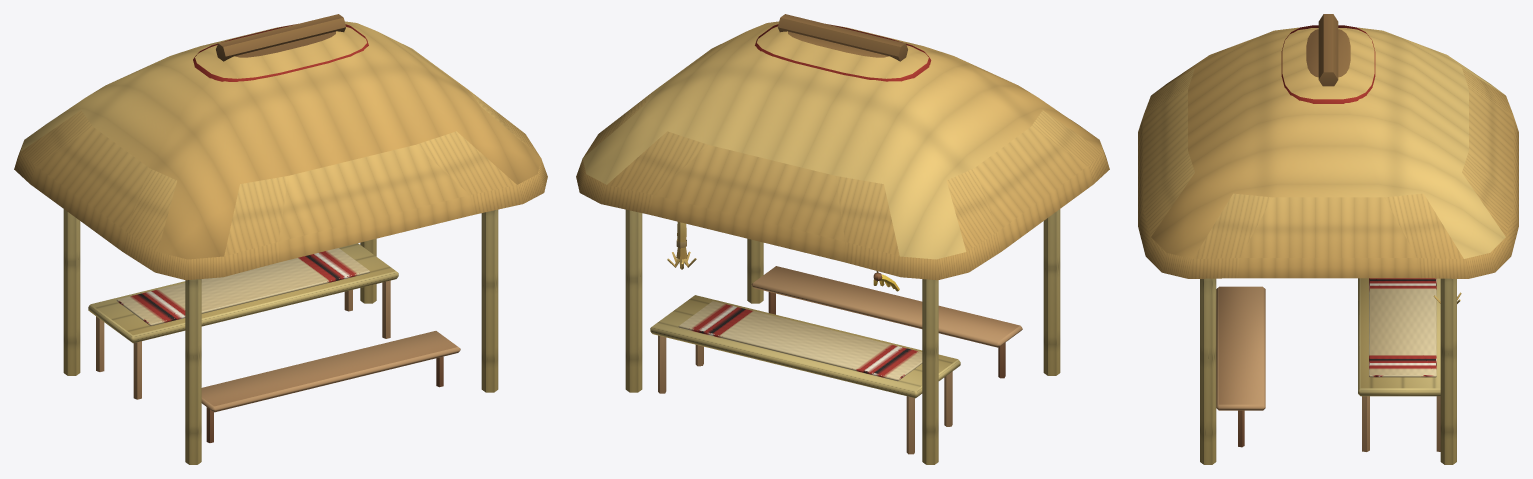
Rendered from market_stall_thatch.glb.
3 views of the same model, side by side, from view 1: azimuth 30°, elevation 25°; view 2: azimuth 150°, elevation 25°; view 3: azimuth 270°, elevation 25° (orthographic).
Parts seen in each view (by area): view 1: market_stall_thatch; view 2: market_stall_thatch; view 3: market_stall_thatch.
Part boxes in pixels (bbox=[...]): market_stall_thatch: bbox=[14, 14, 547, 464]; market_stall_thatch: bbox=[576, 14, 1109, 464]; market_stall_thatch: bbox=[1138, 14, 1518, 464].
Size of the model in its own units: 4.28 by 3.5 by 3.48.
1 material, 1 textured.
